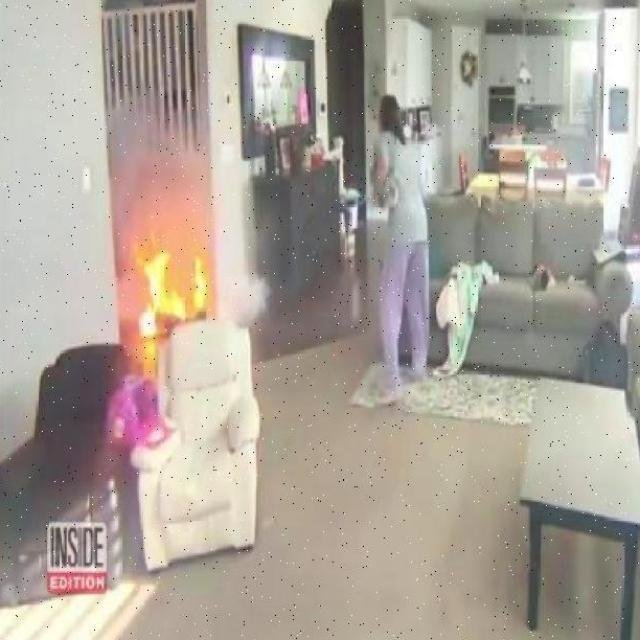fire: (108, 94, 202, 241), (215, 153, 274, 324)
smoke: (132, 248, 214, 339)
